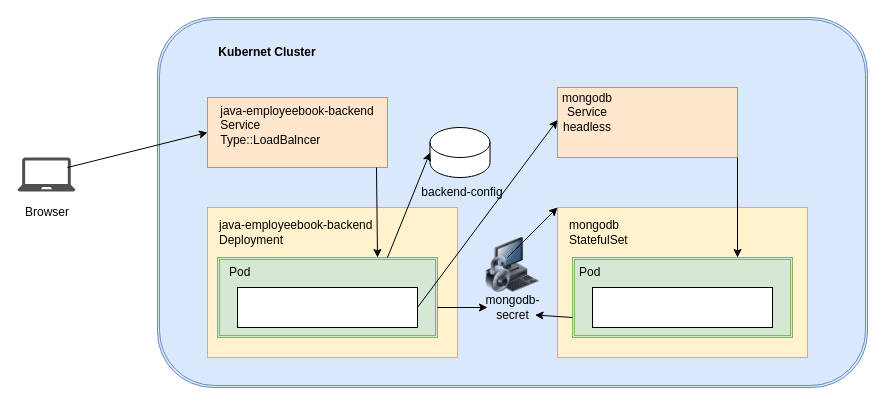
Some shapes in this 885 by 405 pixel diagram are drawn without their labels. Each missing label, with the box of its shape:
java-employeebook-backend Container: (236, 286, 418, 328)
mongodb Container: (592, 286, 772, 328)
